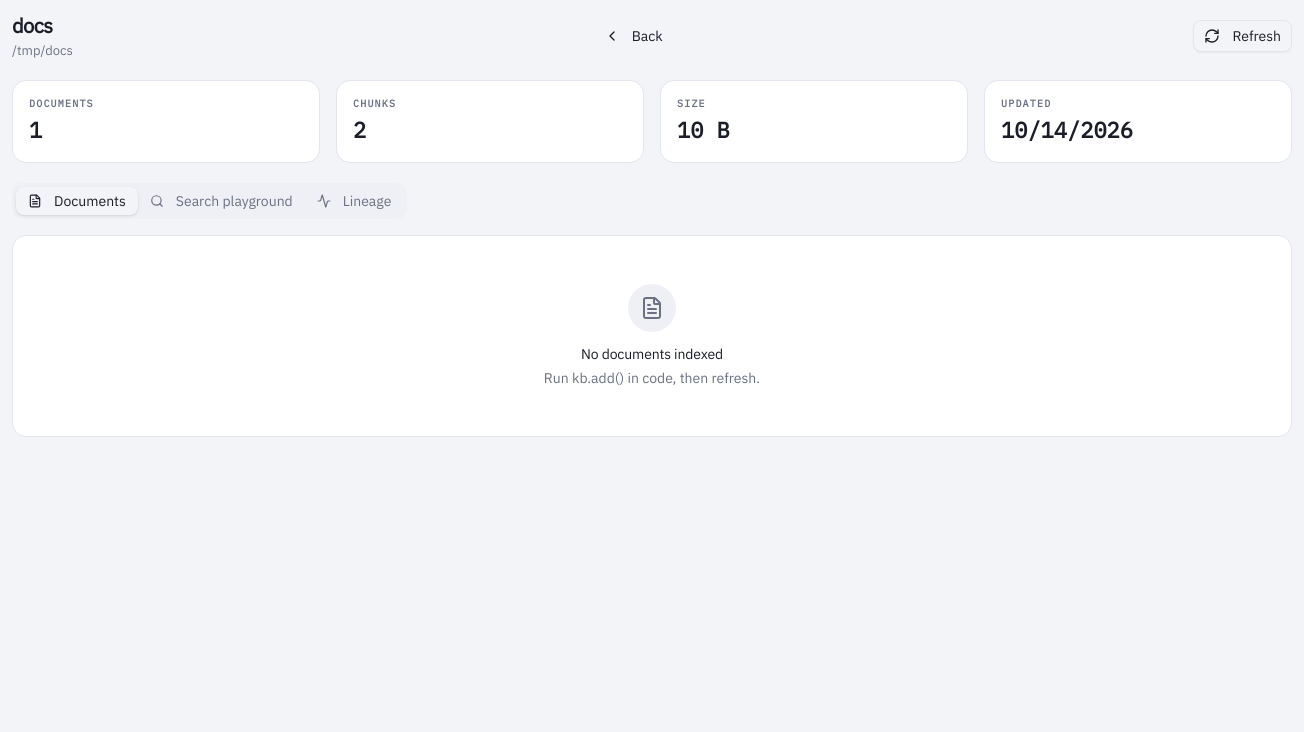
KbDetailPage search › offers only keyword search on a KB without embeddings
The width and height of the screenshot is (1304, 732).
Press the mouse on the tab "Search playground" at {"x": 221, "y": 201}, box [138, 187, 305, 215]
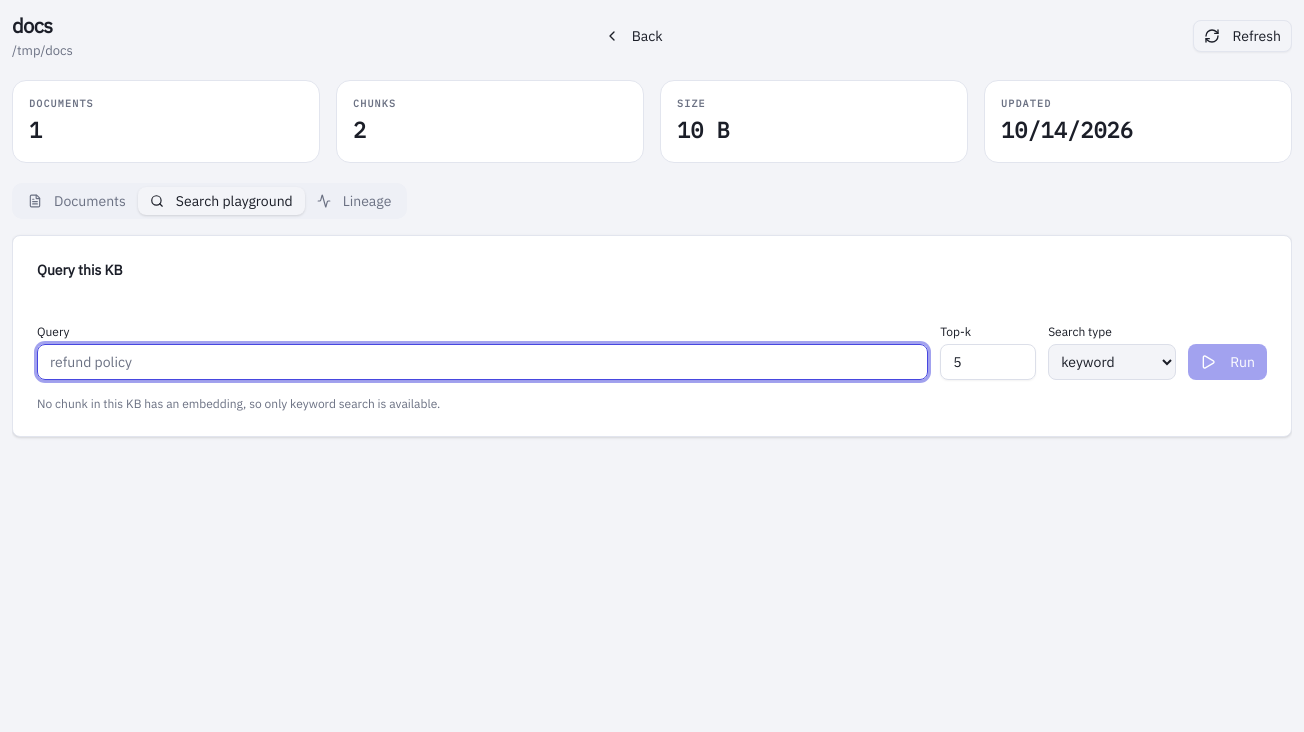
Result: the field labelled "Query" is shown
Result: the text with test id "kb-keyword-only" is shown at [37, 396, 440, 411]
Type "refund" into the field labelled "Query" at {"x": 483, "y": 362}, box [37, 344, 928, 380]
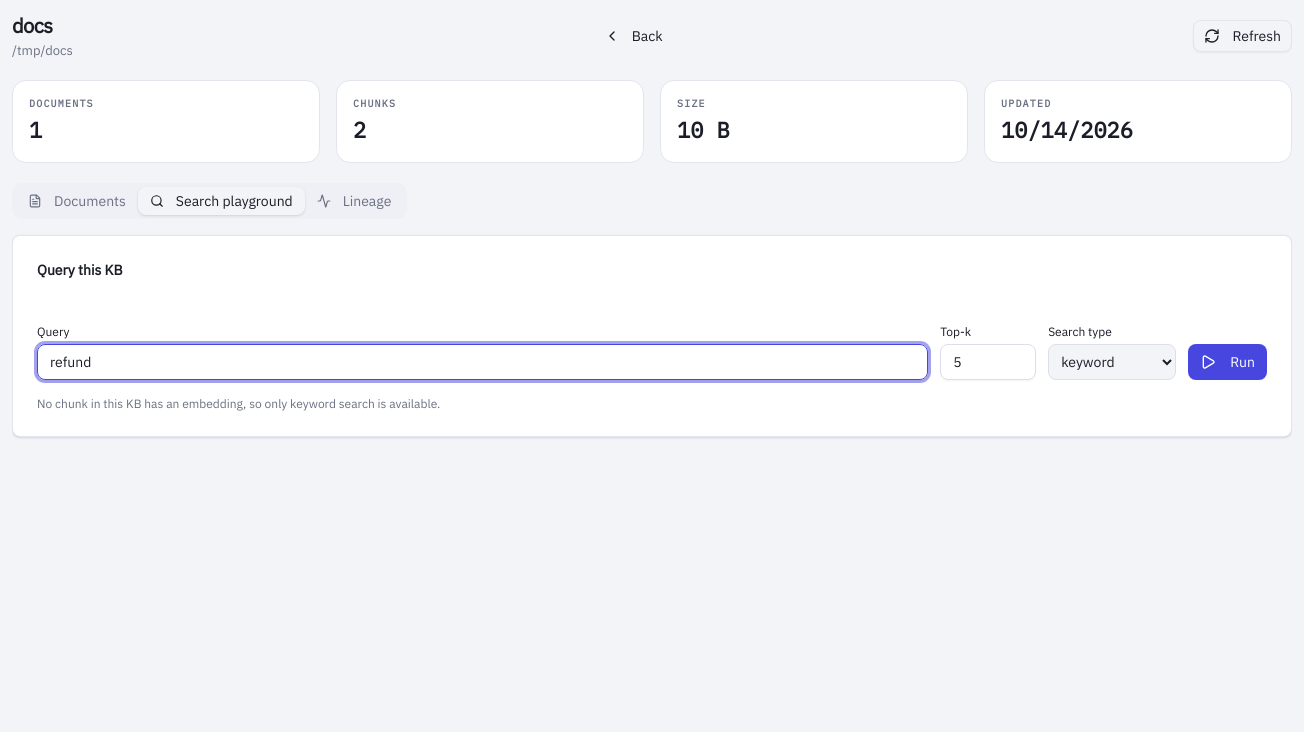
Click the button "Run" at {"x": 1228, "y": 362}, box [1188, 344, 1267, 380]
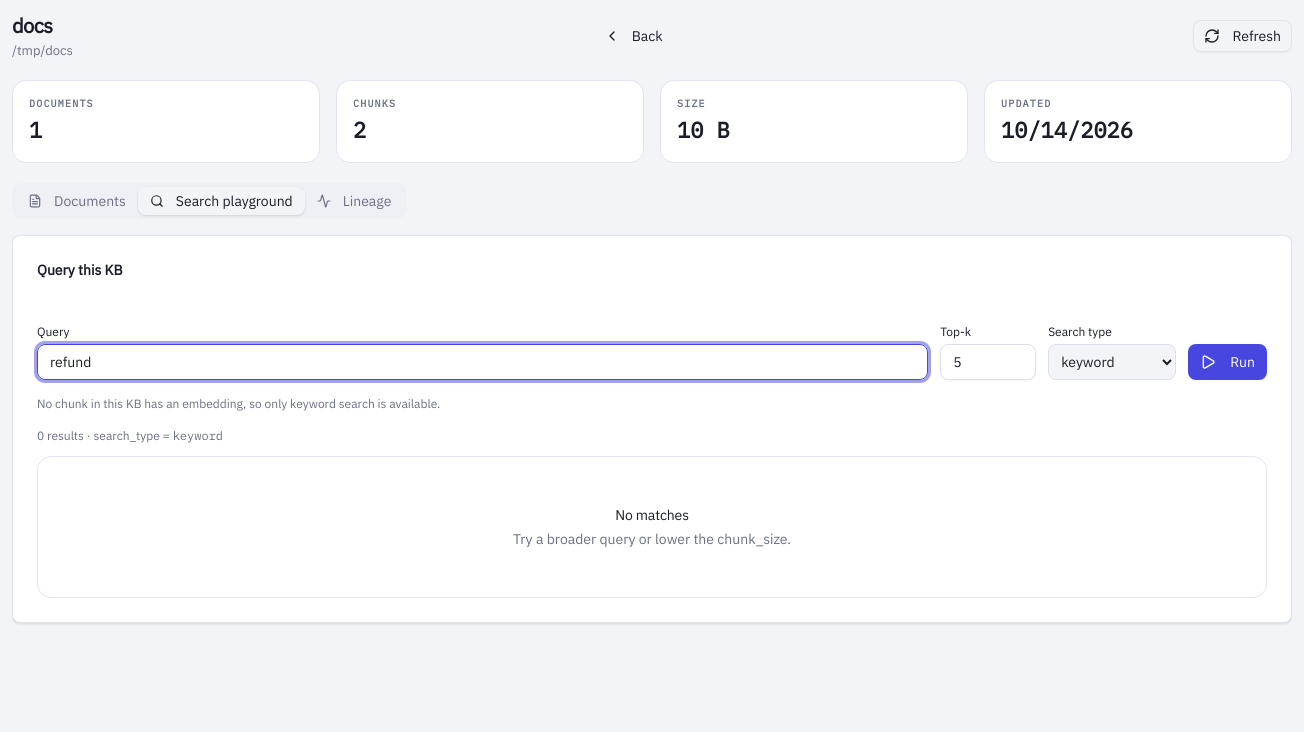
Result: the text "0 results · search_type = keyword" is shown at [37, 428, 223, 443]
